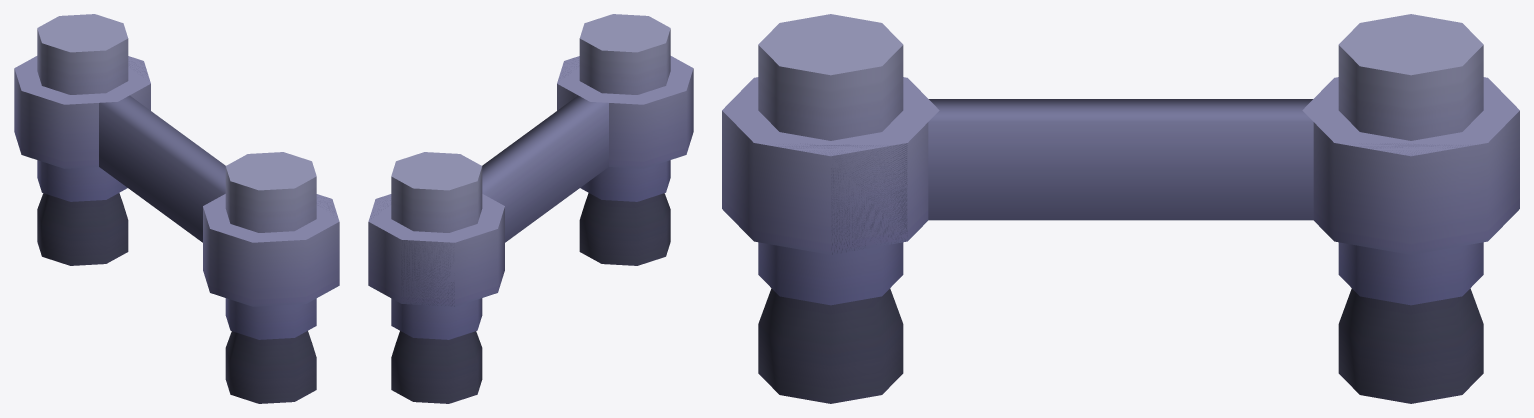
File: kenney-factory-structure-short.glb
The picture shows the model from 3 angles, left to right: view 1: azimuth 30°, elevation 25°; view 2: azimuth 150°, elevation 25°; view 3: azimuth 270°, elevation 25°; orthographic projection. The views are drawn at different scales.
Visible parts, largest first — view 1: structure-short; view 2: structure-short; view 3: structure-short.
Boxes of the visible parts, <box> form: structure-short: <box>14,14,339,403</box>; structure-short: <box>368,14,693,403</box>; structure-short: <box>722,14,1519,403</box>.
Bounding box in the file's own units: 0.3 × 0.5 × 1.1.
Materials: 1 (1 with a texture image).
